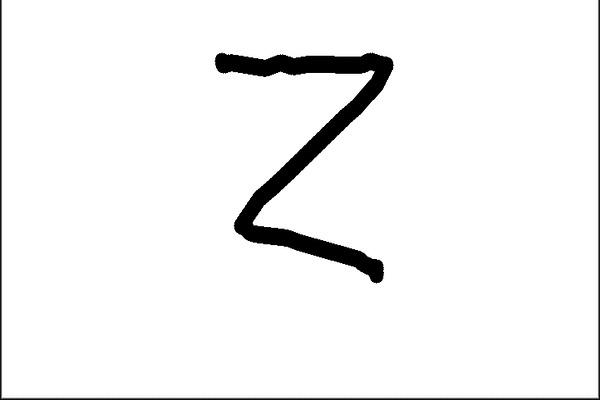Z: (207, 42, 398, 288)
